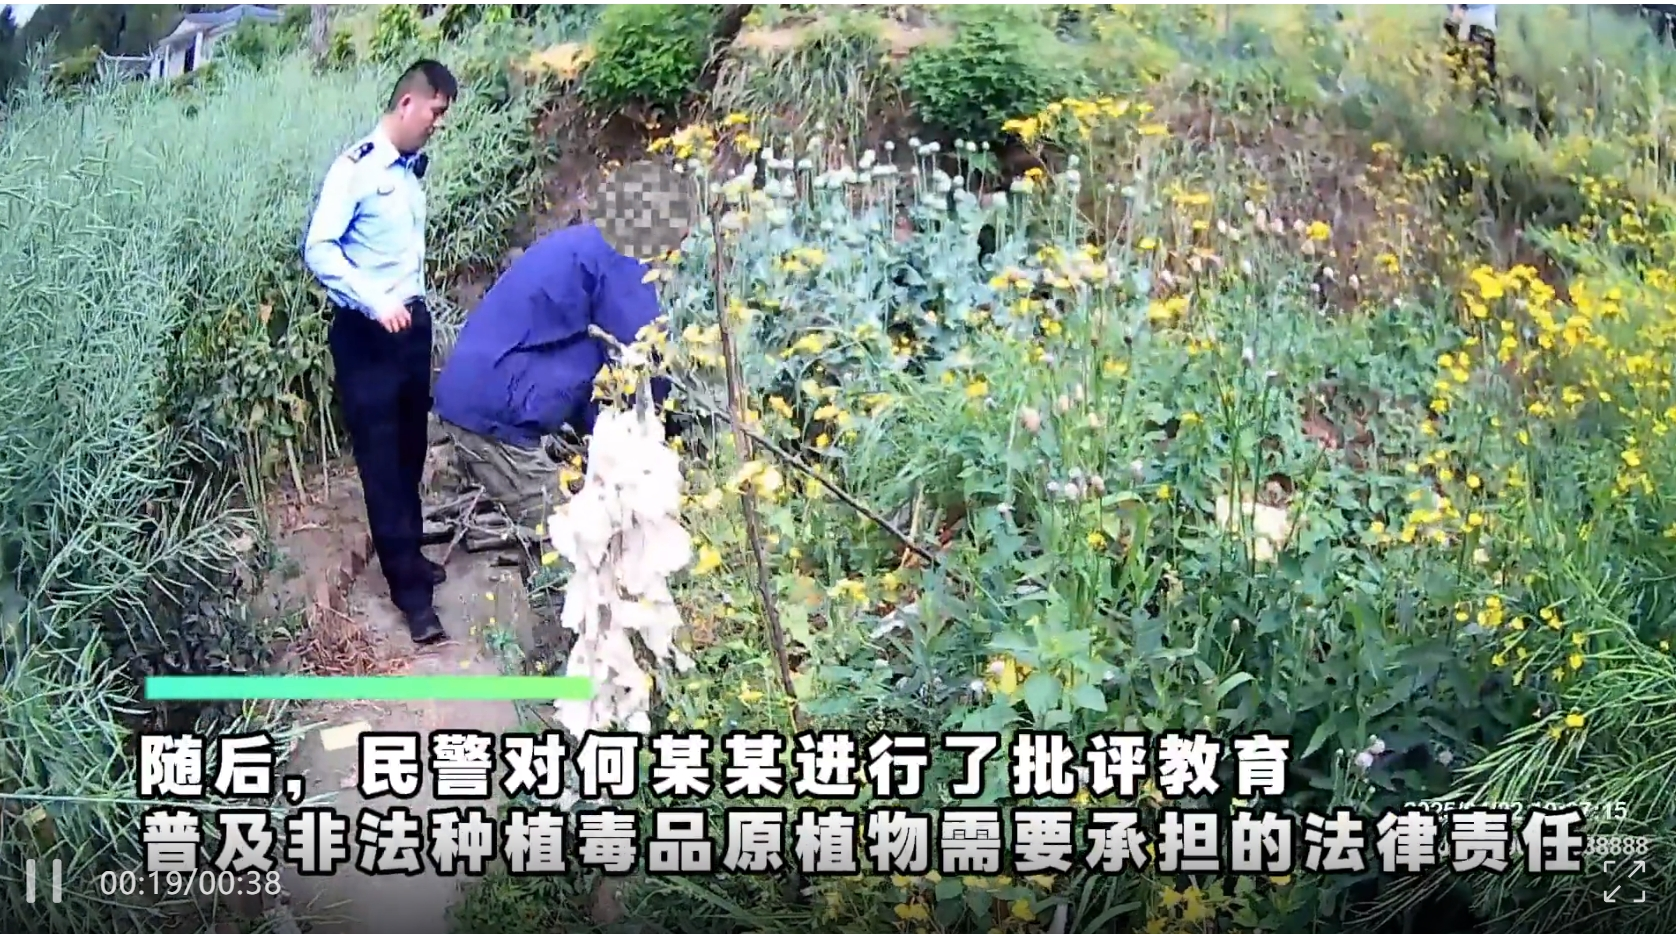Poppy: (632, 104, 1105, 378), (1111, 159, 1401, 498), (981, 363, 1153, 692)
